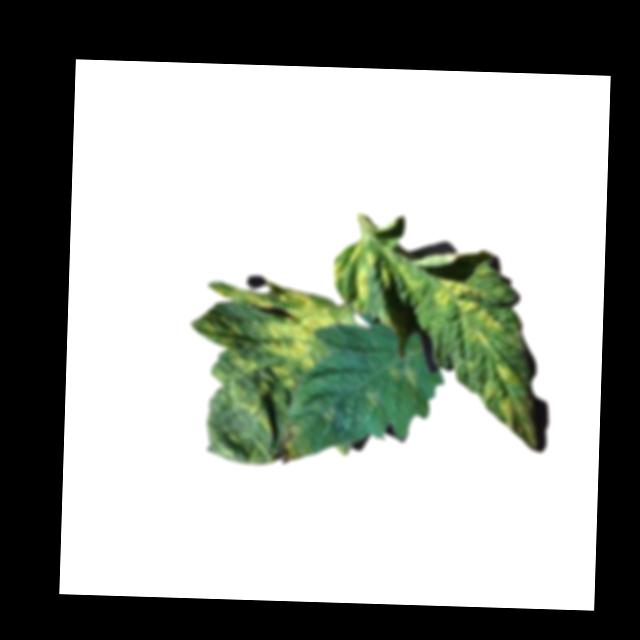Leaf_Mold: (261, 287, 354, 389), (433, 276, 506, 330), (331, 242, 375, 305), (482, 361, 518, 425), (390, 363, 420, 392)
